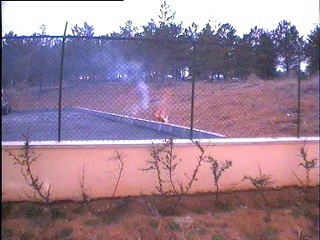smoke: (96, 47, 151, 110)
